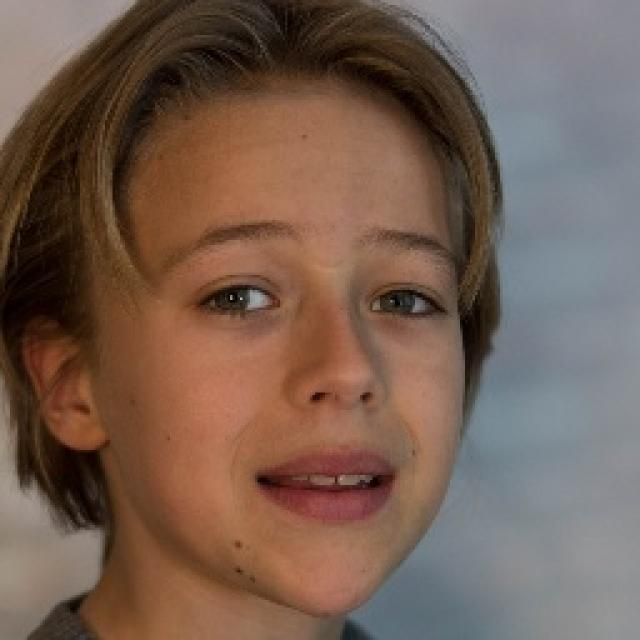earlobe: (22, 315, 108, 453)
